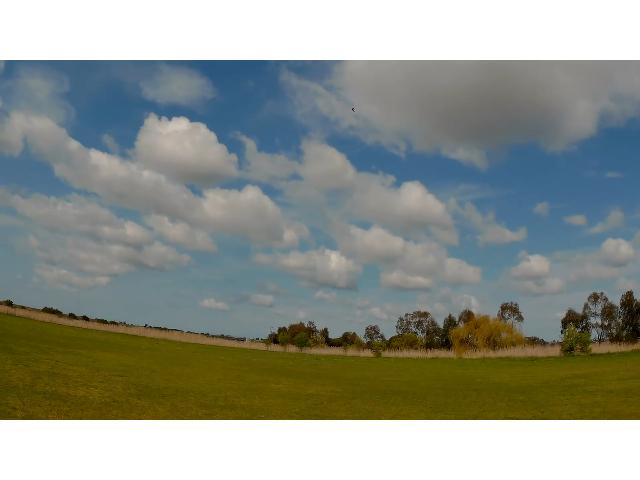Anti-Drone: (342, 100, 368, 119)
